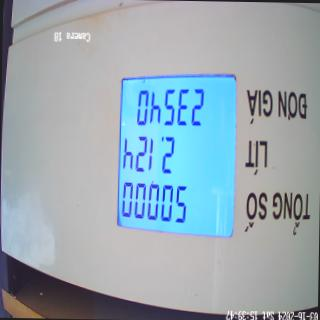screen: (113, 72, 240, 245)
